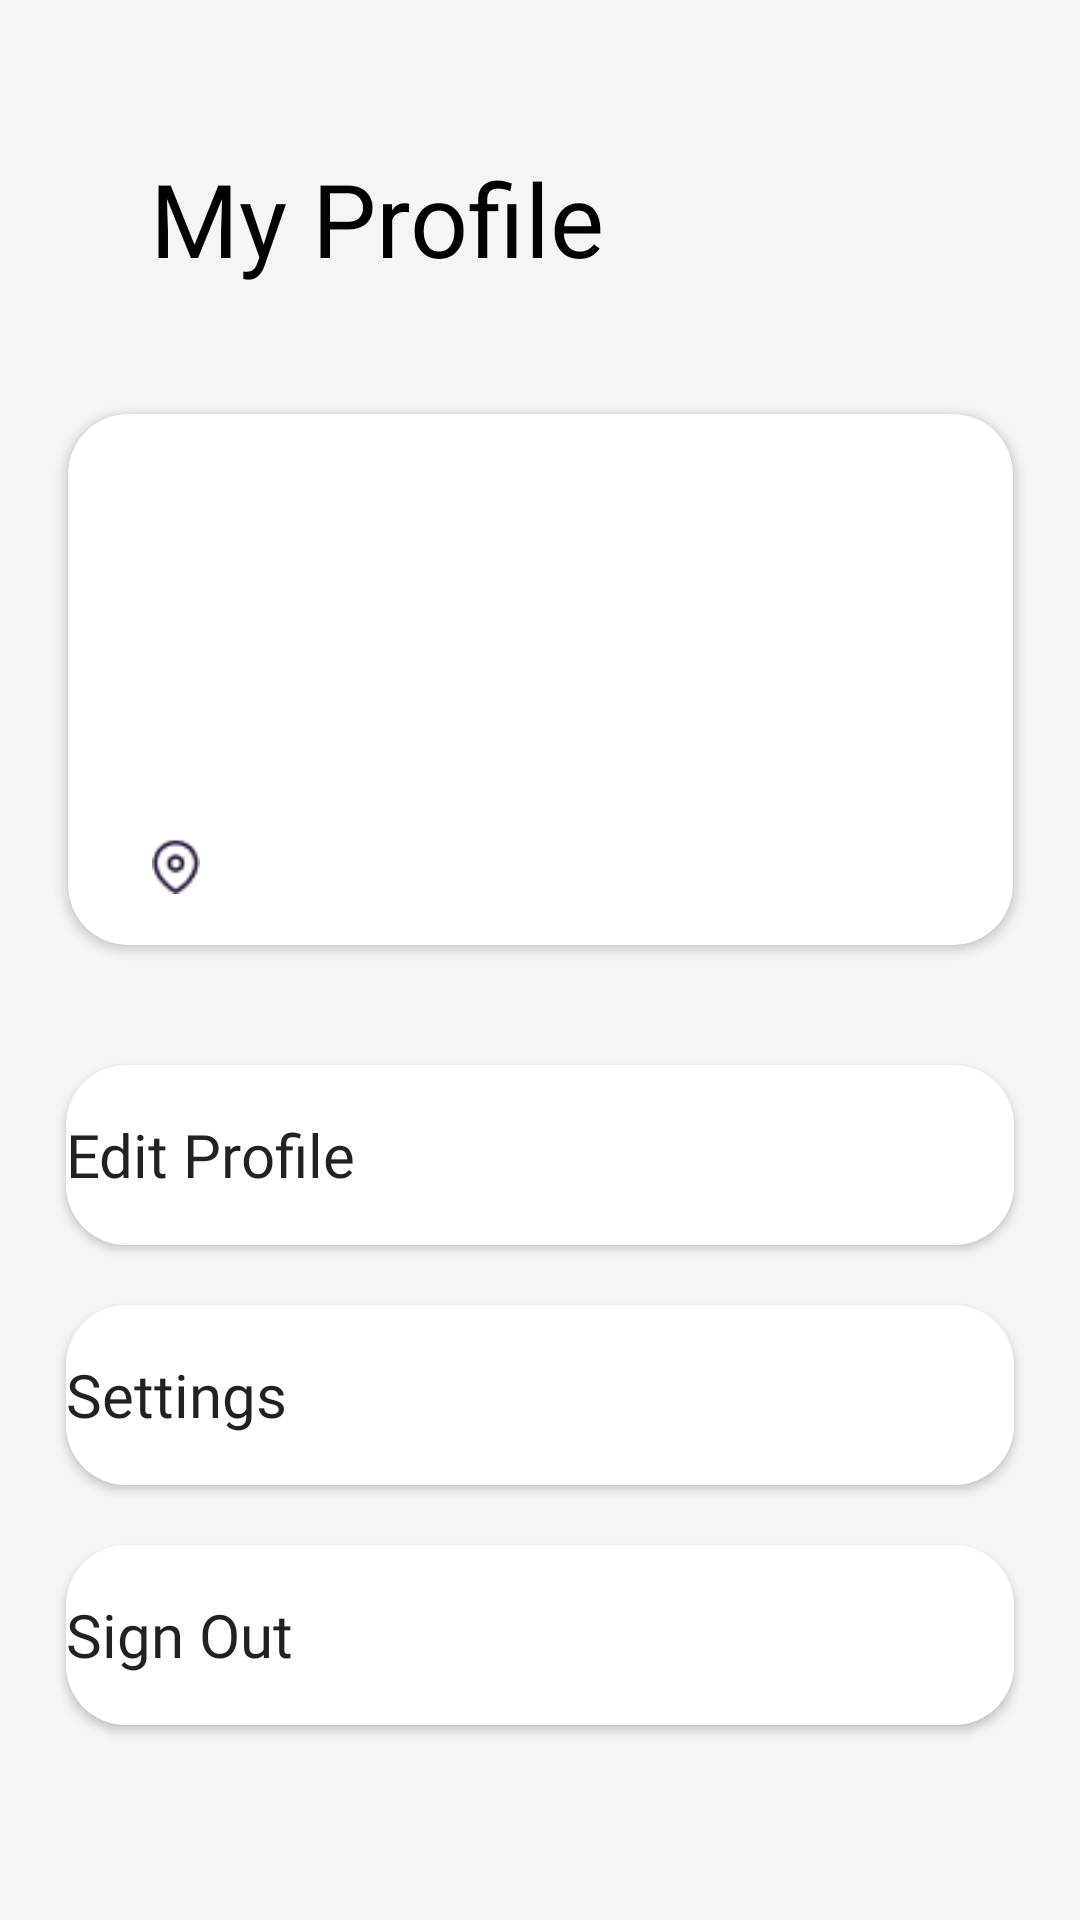

Named icons in this screenshot (1080w x 1920h) and their bounding boxes, (x1, y1, x2, y2):
profile location: (152, 840, 200, 894)
